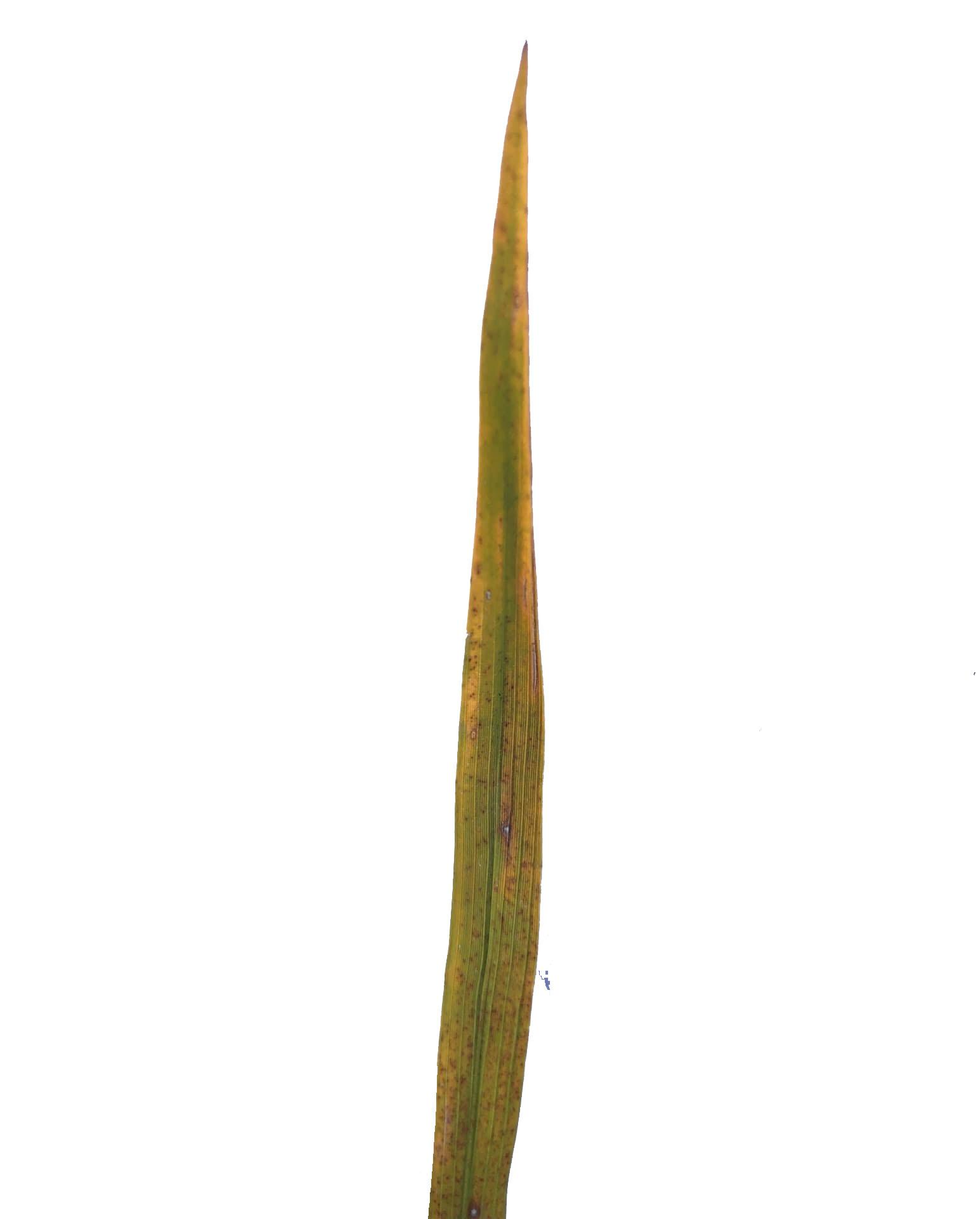Rice blast: (498, 811, 515, 856), (465, 1197, 484, 1219)
Tungro: (464, 37, 549, 683), (437, 856, 543, 1162), (460, 681, 543, 812)
